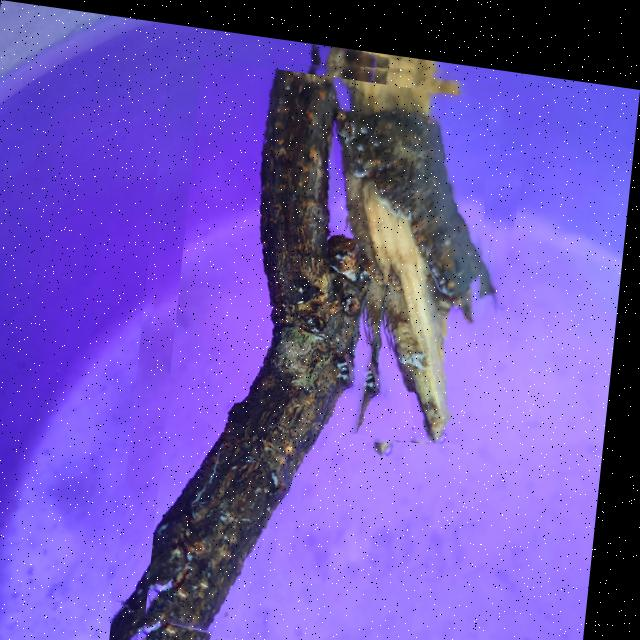litter: (121, 19, 527, 640), (155, 53, 426, 640), (352, 72, 505, 435)
